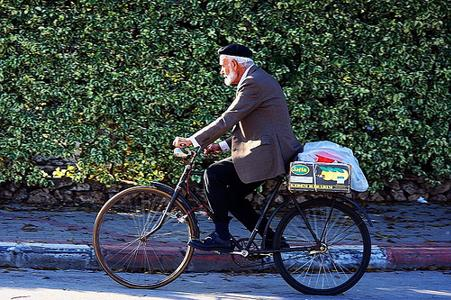person: (169, 43, 305, 260)
